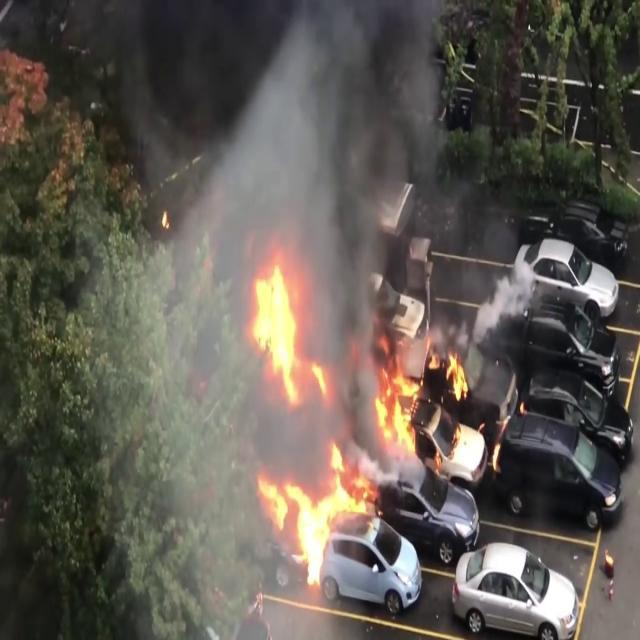Fire: (254, 446, 378, 584), (372, 334, 482, 470), (246, 254, 334, 406)
Smoke: (124, 0, 468, 293)
